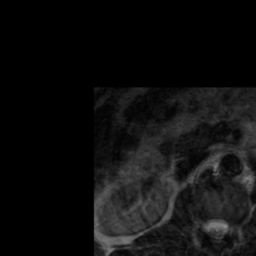CCS_normal: (213, 210, 221, 248)
LFS_normal: (229, 215, 237, 241)
LLS_normal: (221, 210, 229, 242)
RFS_normal: (194, 210, 204, 238)
RLS_normal: (204, 211, 213, 241)
